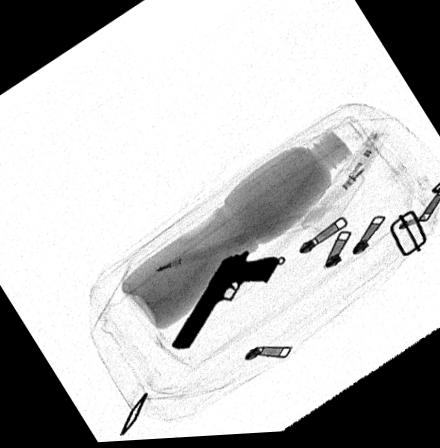Gun: (167, 250, 279, 351)
